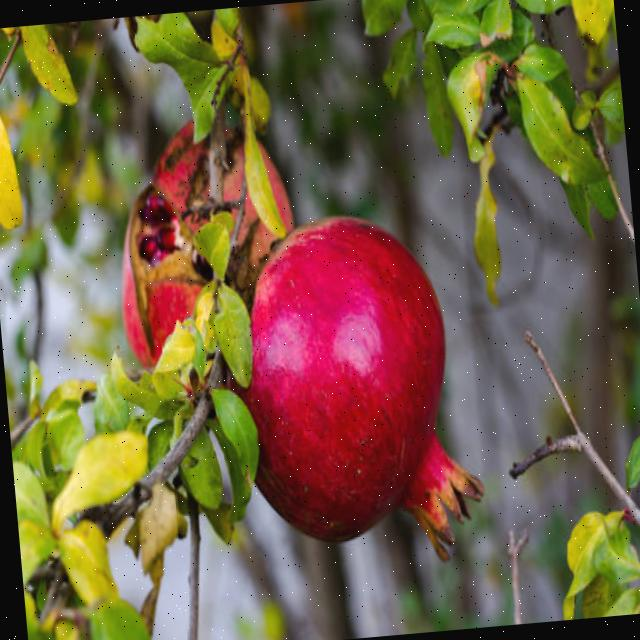Ripe: (227, 202, 488, 575)
